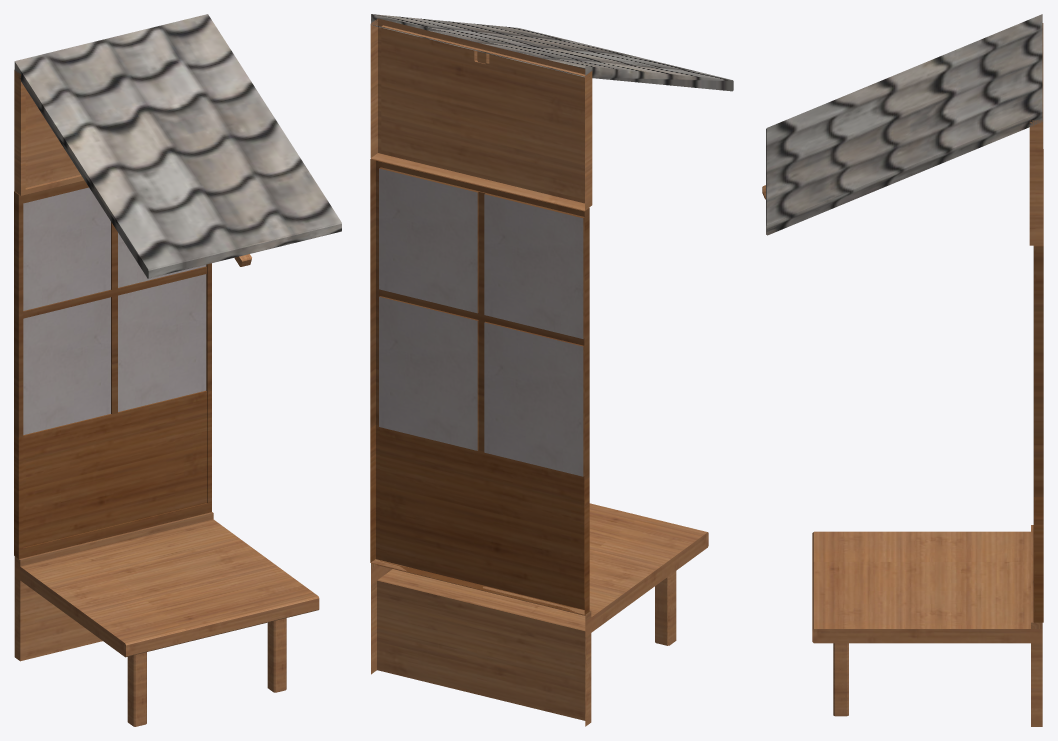
Rendered from kaoku.fbx.
The picture shows the model from 3 angles, left to right: view 1: azimuth 30°, elevation 25°; view 2: azimuth 150°, elevation 25°; view 3: azimuth 270°, elevation 25°; orthographic projection. The views are drawn at different scales.
Parts seen in each view (by area): view 1: kaoku; view 2: kaoku; view 3: kaoku.
Part boxes in pixels (<box>): kaoku: <box>14,14,341,726</box>; kaoku: <box>370,14,733,726</box>; kaoku: <box>762,14,1043,726</box>.
Size of the model in its own units: 100 by 295 by 122.
1 material, 1 textured.
